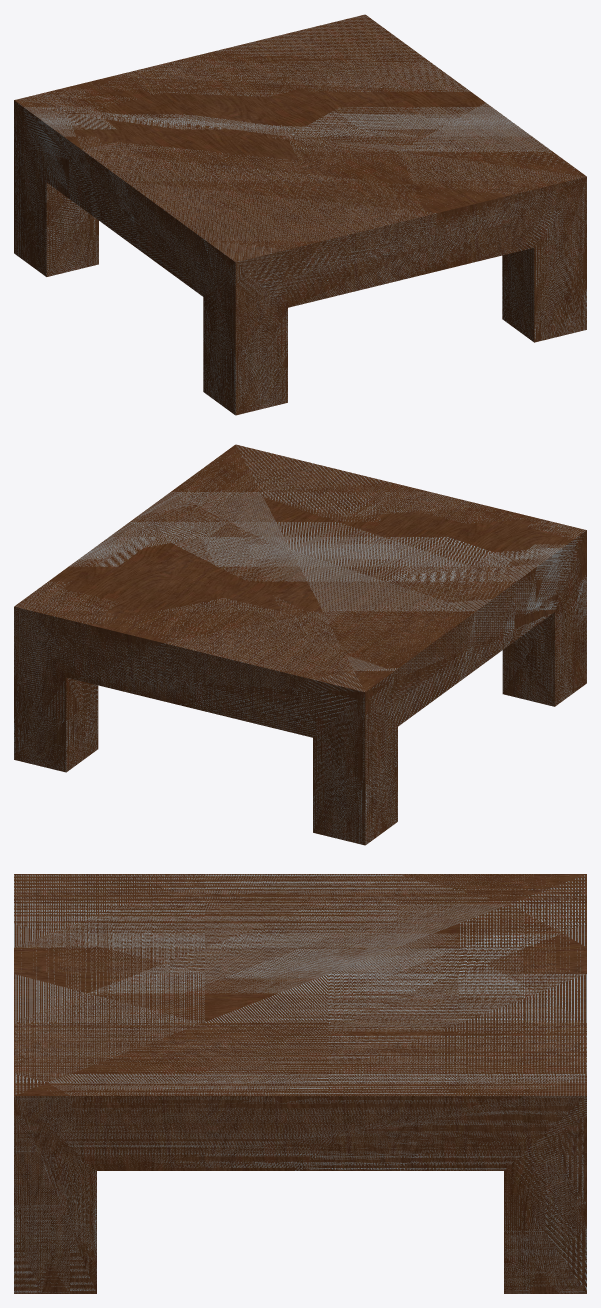
File: stolek.fbx
The picture shows the model from 3 angles, top to bottom: view 1: azimuth 30°, elevation 25°; view 2: azimuth 150°, elevation 25°; view 3: azimuth 270°, elevation 25°; orthographic projection. The views are drawn at different scales.
Visible parts, largest first — view 1: Model; view 2: Model; view 3: Model.
Boxes of the visible parts, x1,y1,x2,y2 form: Model: (14,14,586,415); Model: (14,444,586,845); Model: (14,874,586,1293).
Size of the model in its own units: 37.36 by 15.56 by 40.8.
